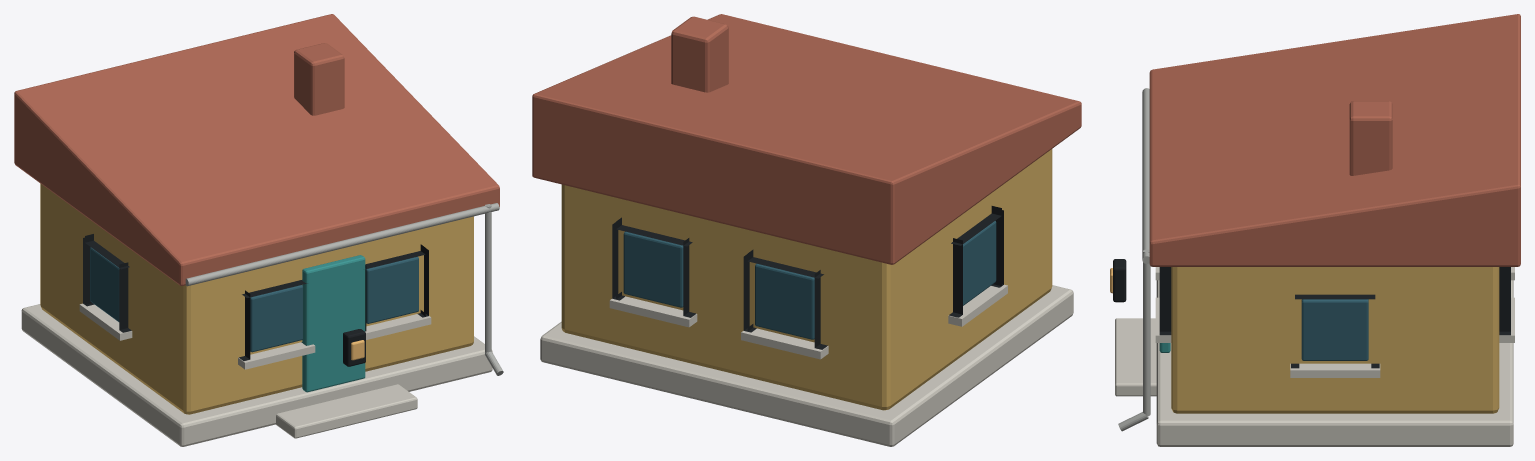
The model's file is RES_LOW_1x1_005.glb.
The picture shows the model from 3 angles, left to right: view 1: azimuth 30°, elevation 25°; view 2: azimuth 150°, elevation 25°; view 3: azimuth 270°, elevation 25°; orthographic projection. The views are drawn at different scales.
Parts seen in each view (by area): view 1: RES_LOW_1x1_005_Visual; view 2: RES_LOW_1x1_005_Visual; view 3: RES_LOW_1x1_005_Visual.
Part boxes in pixels (x1=…): RES_LOW_1x1_005_Visual: x1=14, y1=14, x2=503, y2=446; RES_LOW_1x1_005_Visual: x1=532, y1=14, x2=1081, y2=446; RES_LOW_1x1_005_Visual: x1=1110, y1=14, x2=1520, y2=446.
Size of what is drawn, in the model's own units: 1.71 by 1.37 by 1.71.
